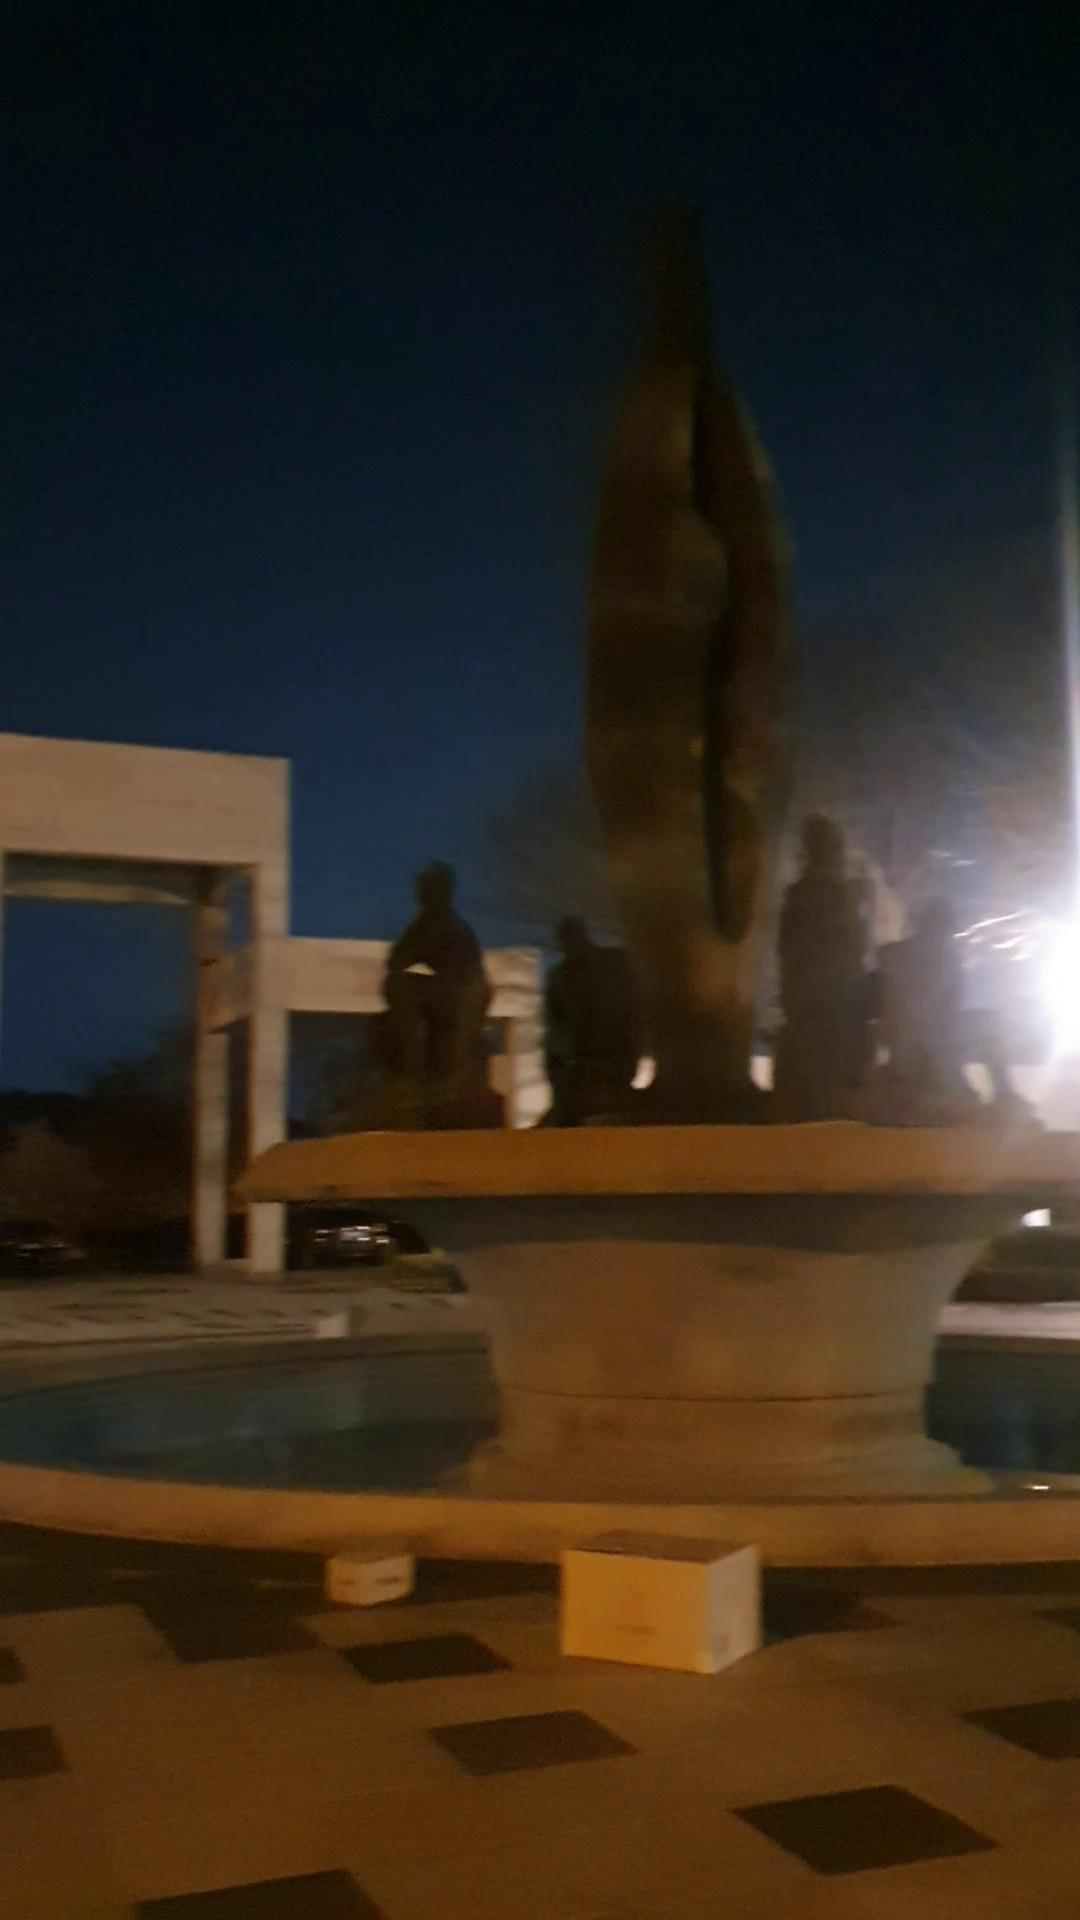Box: (558, 1528, 769, 1680), (323, 1530, 422, 1619)
